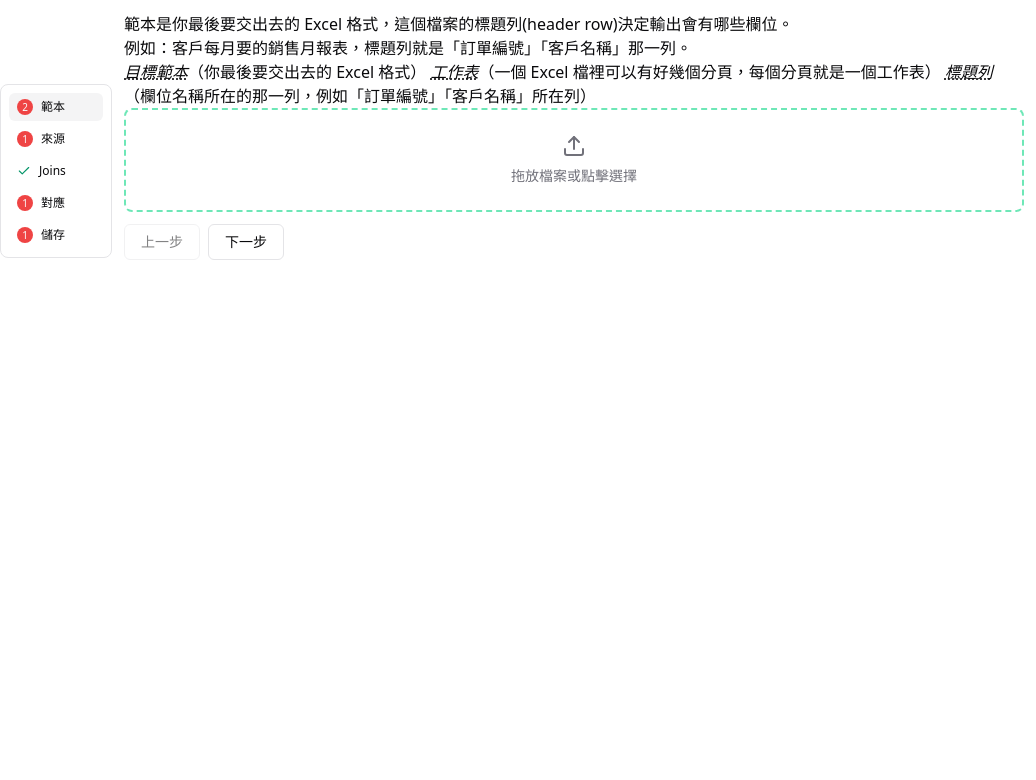
Test: WizardPage › treatsEmptyJoinsAsCompleteReachesSave
Expected: the 2nd icon is shown, [17,164,31,178]
Click the button "1 儲存" at {"x": 56, "y": 235}, box [9,221,103,249]
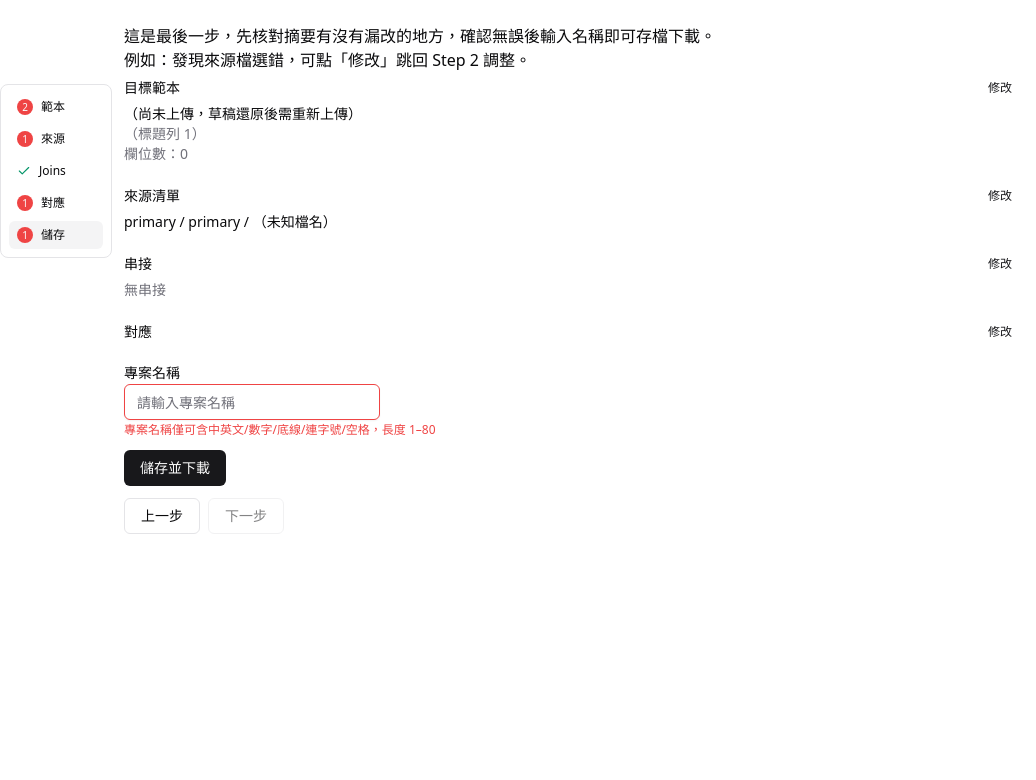
Expected: the text "無串接" is shown, [124,280,166,299]
Expected: the button "儲存並下載" is enabled, [124,450,226,486]
